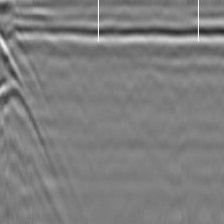Utility: (0, 26, 50, 153)
